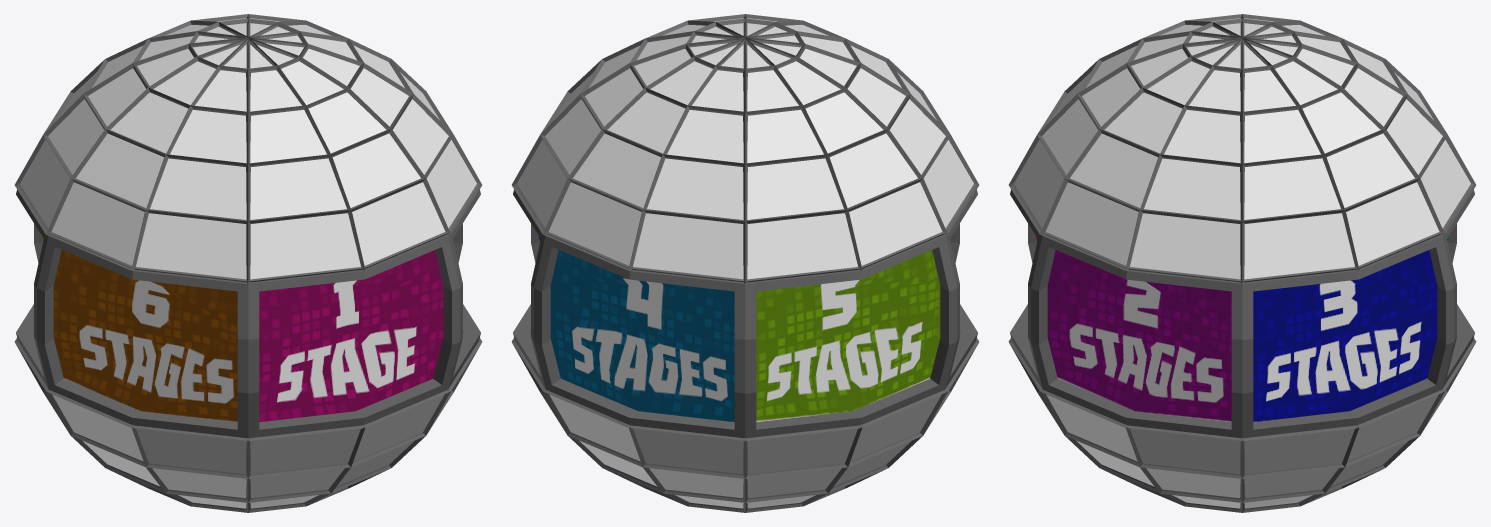
File: DISCO BALL.fbx
3 views of the same model, side by side, from view 1: azimuth 30°, elevation 25°; view 2: azimuth 150°, elevation 25°; view 3: azimuth 270°, elevation 25° (orthographic).
Visible parts, largest first — view 1: Sphere, Sphere.002; view 2: Sphere, Sphere.002; view 3: Sphere, Sphere.002.
Boxes of the visible parts, bbox=[...] form: Sphere: bbox=[16, 18, 480, 508]; Sphere.002: bbox=[14, 14, 482, 512]; Sphere: bbox=[513, 18, 977, 508]; Sphere.002: bbox=[511, 14, 979, 512]; Sphere: bbox=[1010, 18, 1474, 508]; Sphere.002: bbox=[1008, 14, 1476, 512].
Size of the model in its own units: 173 by 177 by 165.
8 materials, 6 textured.
